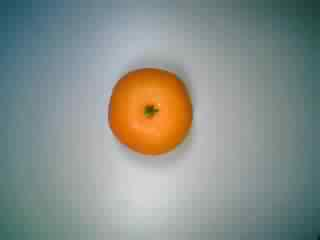orange: (105, 61, 203, 159)
